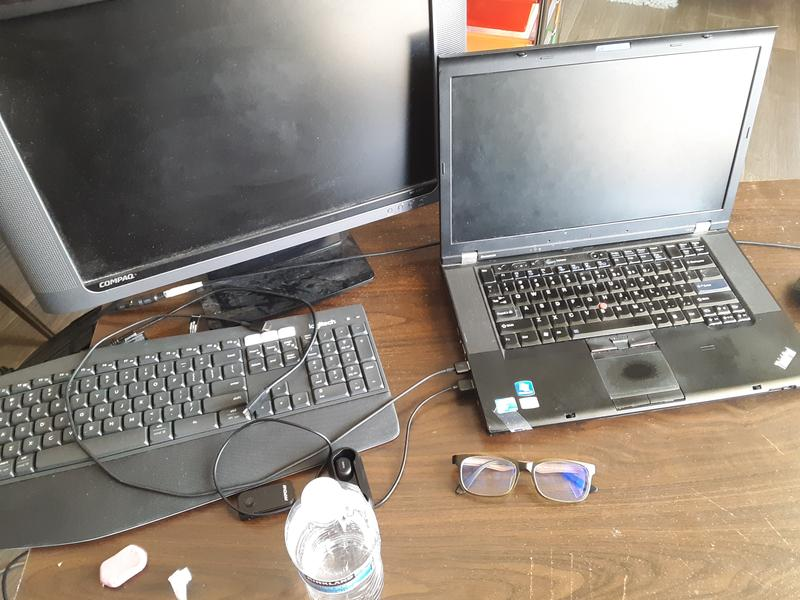glasses: (451, 451, 597, 505)
